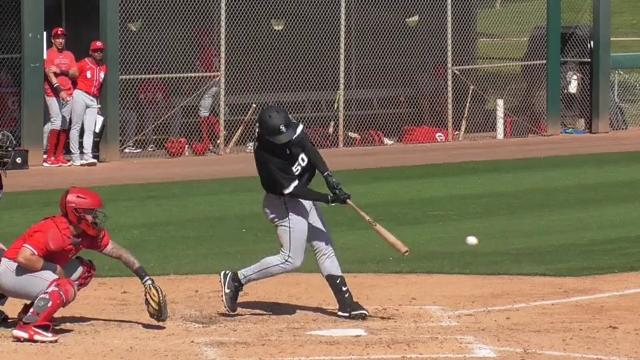ball: (462, 236, 482, 249)
bat: (348, 196, 410, 256)
